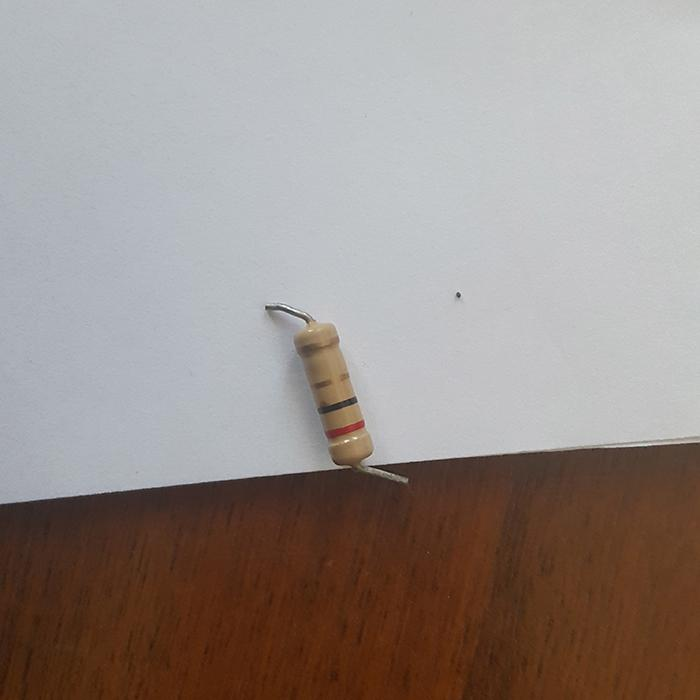resistor: (295, 321, 371, 463)
